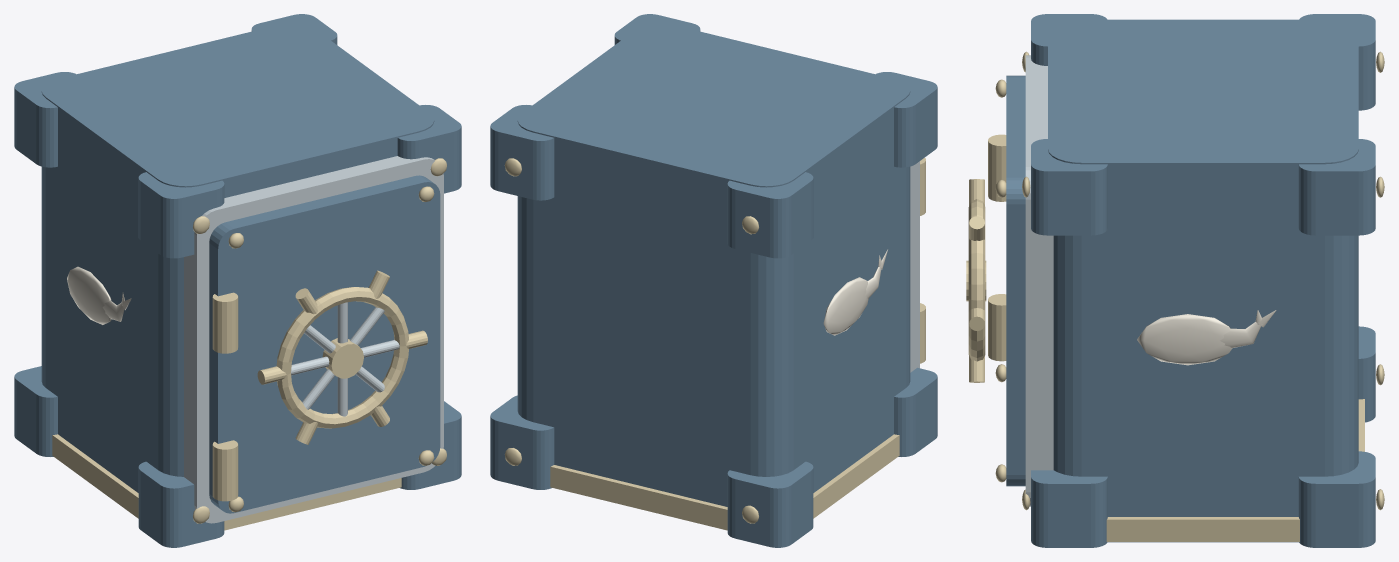
The model's file is library_safe_floor.glb.
3 renders of one model, left to right at view 1: azimuth 30°, elevation 25°; view 2: azimuth 150°, elevation 25°; view 3: azimuth 270°, elevation 25°, orthographic. The views are drawn at different scales.
Visible parts, largest first — view 1: decor_29445e_matte, decor_9aadb8_metal, decor_bca46d_metal, decor_e0d7bf_matte; view 2: decor_29445e_matte, decor_bca46d_metal, decor_9aadb8_metal, decor_e0d7bf_matte; view 3: decor_29445e_matte, decor_bca46d_metal, decor_9aadb8_metal, decor_e0d7bf_matte.
Boxes of the visible parts, <box> form: decor_29445e_matte: <box>14,14,461,547</box>; decor_9aadb8_metal: <box>184,156,443,523</box>; decor_bca46d_metal: <box>52,158,447,530</box>; decor_e0d7bf_matte: <box>67,266,131,324</box>; decor_29445e_matte: <box>490,14,937,547</box>; decor_bca46d_metal: <box>504,157,925,530</box>; decor_9aadb8_metal: <box>910,161,919,372</box>; decor_e0d7bf_matte: <box>823,249,887,335</box>; decor_29445e_matte: <box>1006,14,1375,547</box>; decor_bca46d_metal: <box>966,51,1384,541</box>; decor_9aadb8_metal: <box>1025,55,1053,506</box>; decor_e0d7bf_matte: <box>1137,310,1276,365</box>.
Bounding box in the file's own units: 1.21 × 1.36 × 1.36.
